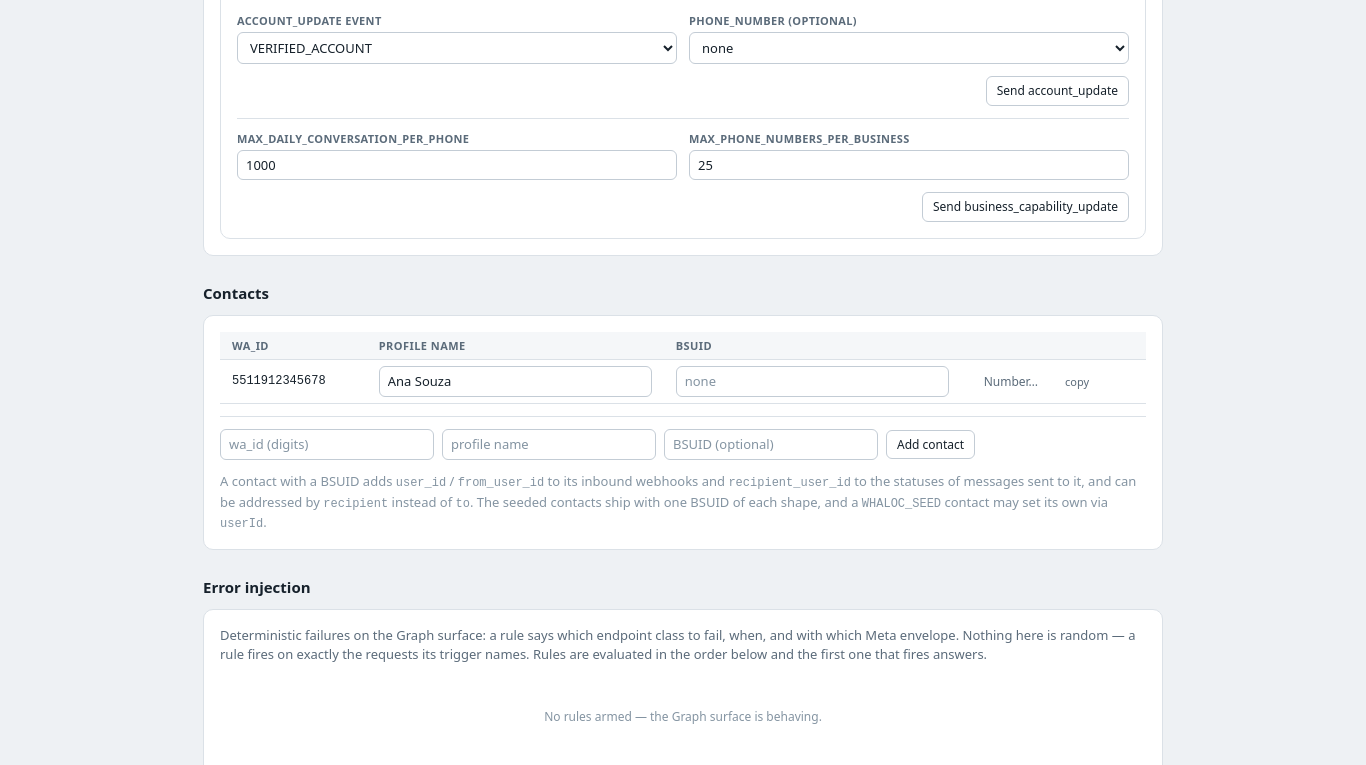
Test: SettingsPage › contacts › changes a contact's number through the dialog
(page scrolled)
Click the button "Number…": (1011, 382) [973,367,1049,397]
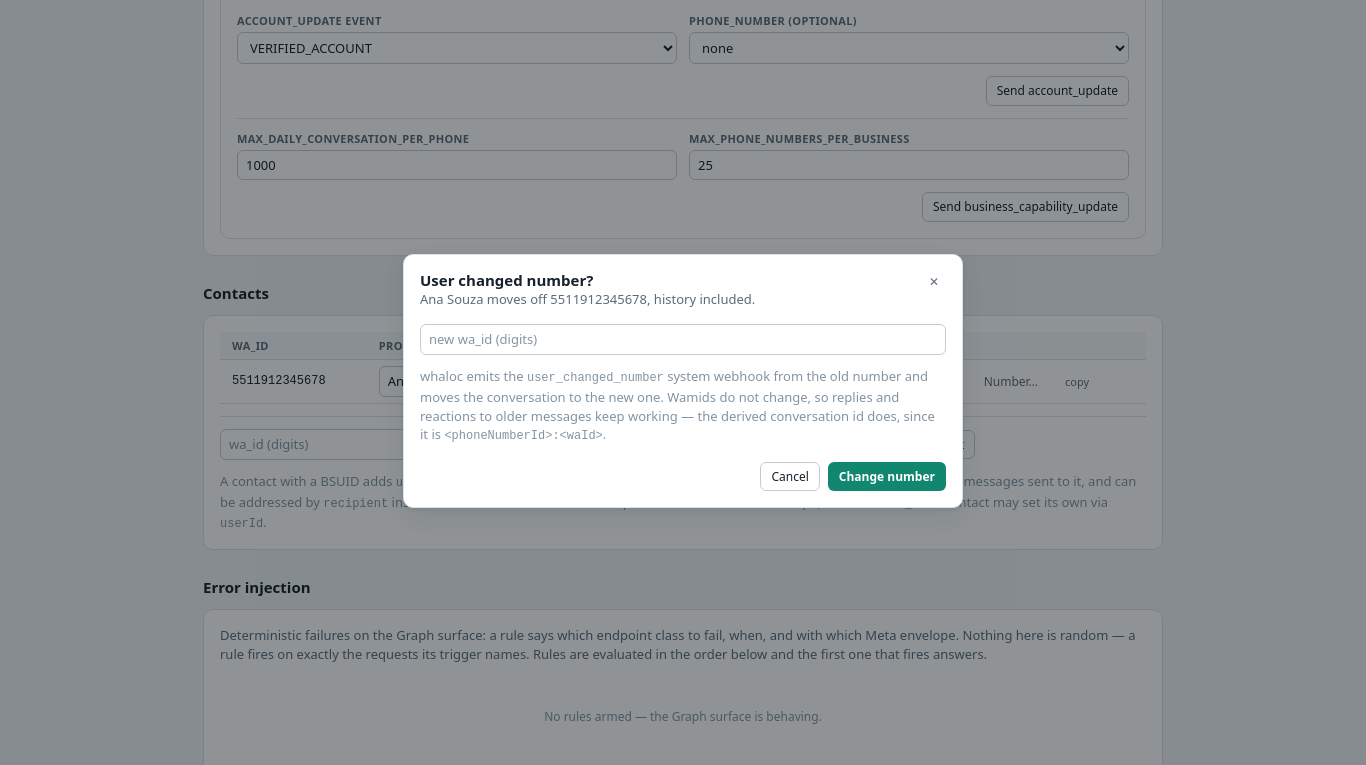
In the field labelled "new wa_id": (683, 340) [420,324,946,355], type "5511900000000"
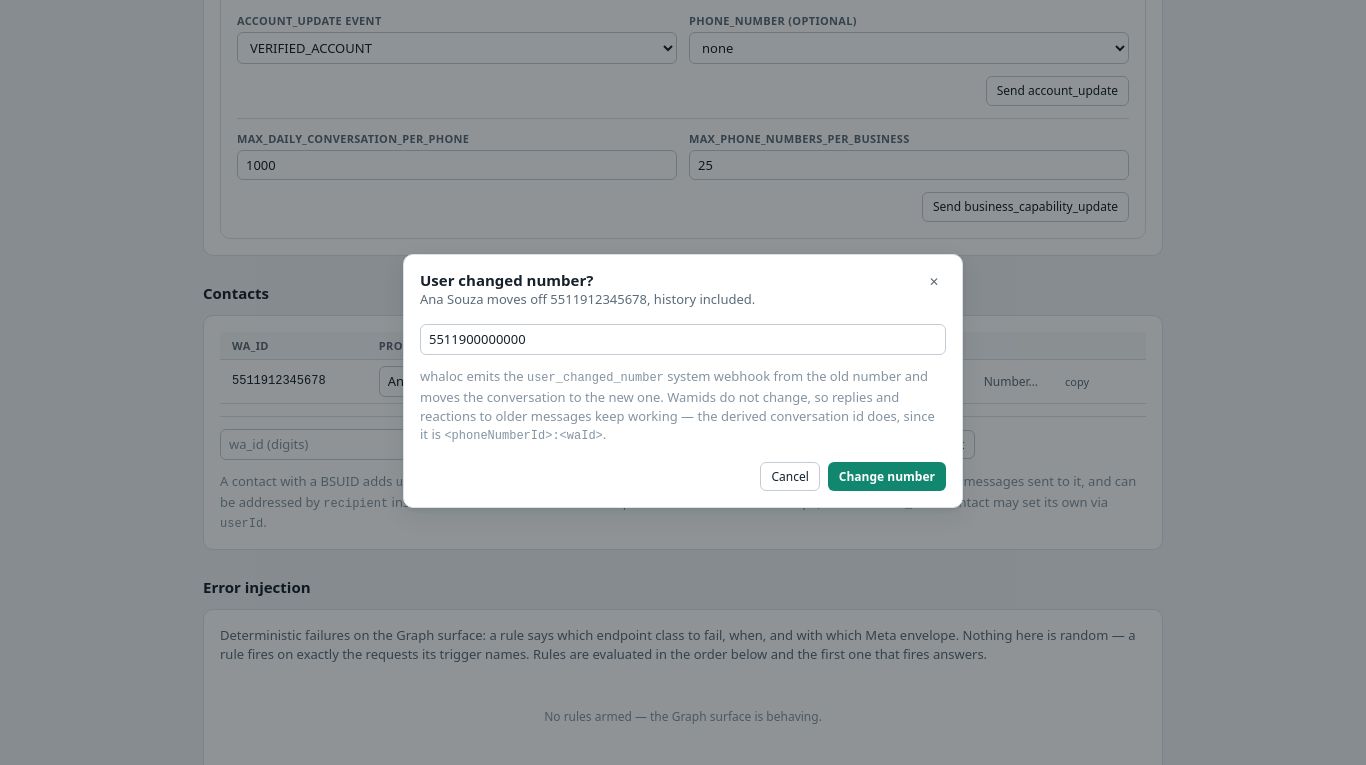
Click the button "Change number": (887, 476) [828,462,946,491]
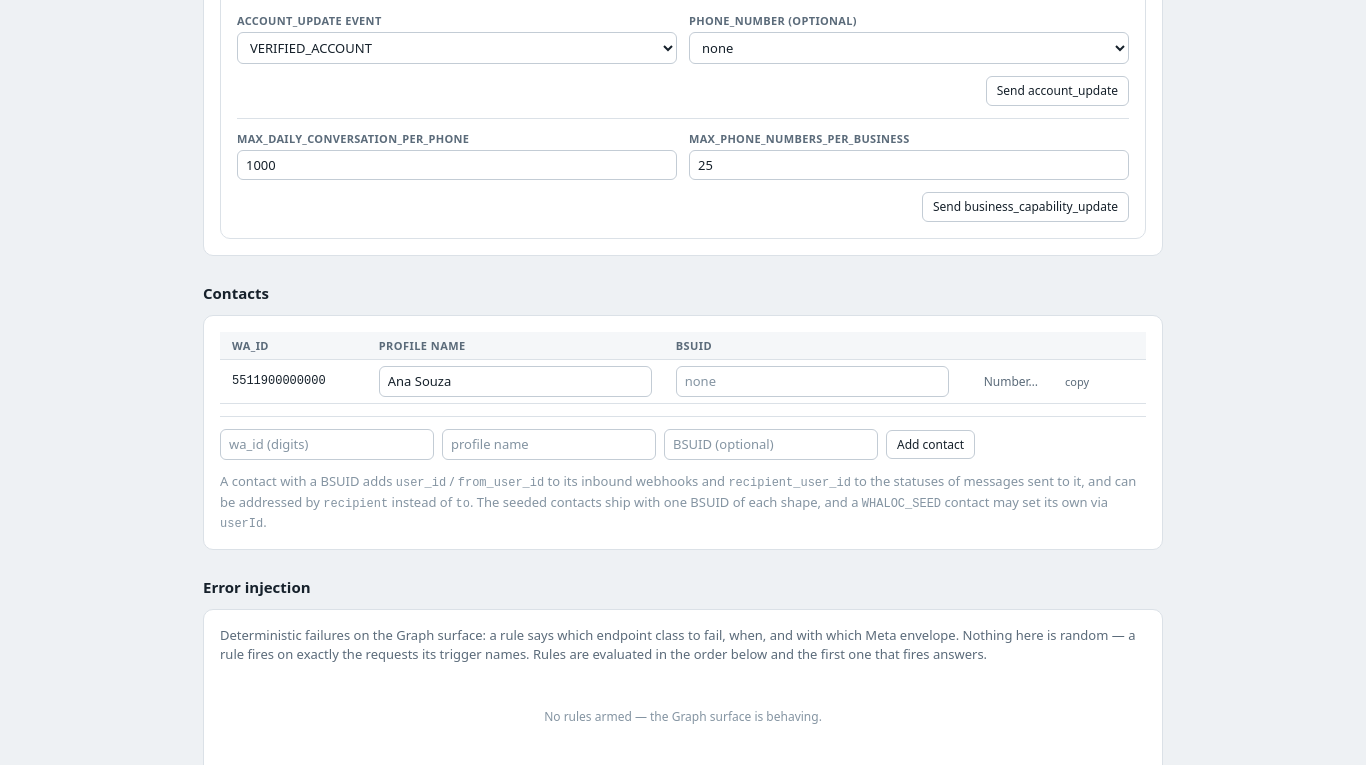
Now the field named "BSUID of 5511900000000" is shown, box [676,366,949,397]
